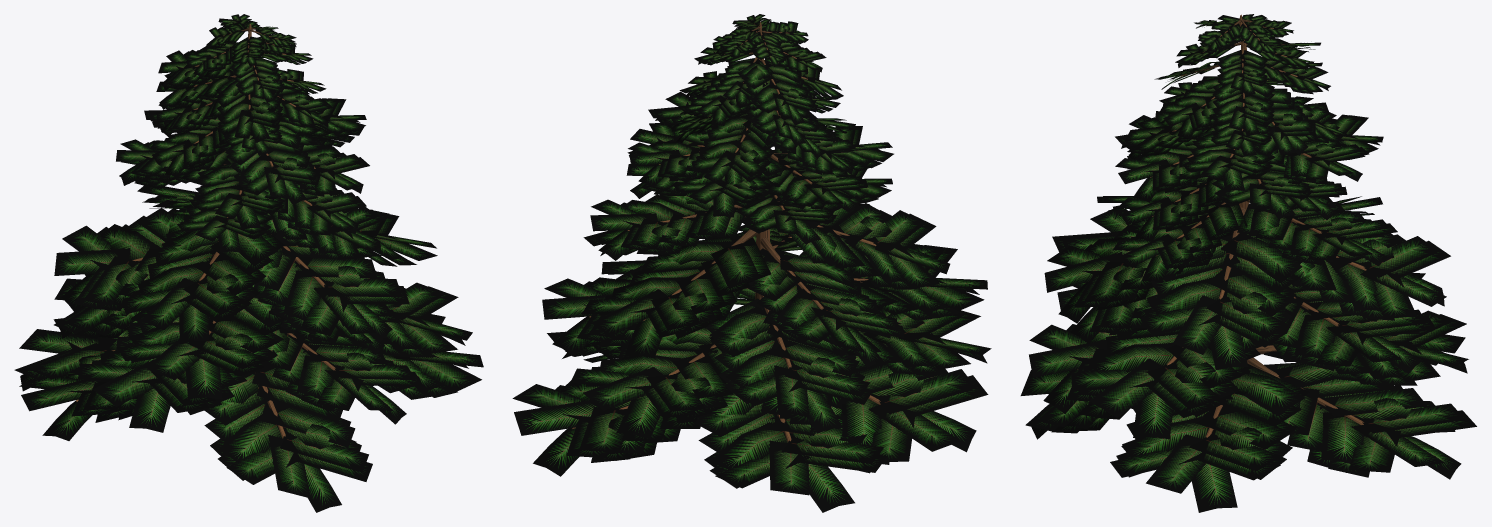
File: PineTree-2.fbx
3 renders of one model, left to right at view 1: azimuth 30°, elevation 25°; view 2: azimuth 150°, elevation 25°; view 3: azimuth 270°, elevation 25°, orthographic. The views are drawn at different scales.
Parts seen in each view (by area): view 1: Plane.1134, Plane.1137, Plane.1135, Plane.1140, Plane.1200, Plane.1360, Plane.1260, Plane.1199, Plane.1299, Plane.1100, Plane.1440, Plane.1414 (+62 smaller); view 2: Plane.1095, Plane.1160, Plane.1257, Plane.1260, Plane.1100, Plane.1180, Plane.1255, Plane.1155, Plane.1259, Plane.1097, Plane.1373, Plane.1380 (+71 smaller); view 3: Plane.1393, Plane.1320, Plane.1120, Plane.1113, Plane.1154, Plane.1157, Plane.1119, Plane.1114, Plane.1317, Plane.1220, Plane.1155, Plane.1400 (+74 smaller).
Part boxes in pixels (<box>): Plane.1134: <box>266,401,355,447</box>; Plane.1137: <box>218,413,282,461</box>; Plane.1135: <box>280,431,368,472</box>; Plane.1140: <box>268,434,310,498</box>; Plane.1200: <box>93,359,156,406</box>; Plane.1360: <box>54,248,130,275</box>; Plane.1260: <box>19,329,117,353</box>; Plane.1199: <box>129,388,170,432</box>; Plane.1299: <box>185,358,222,399</box>; Plane.1100: <box>21,379,109,411</box>; Plane.1440: <box>140,277,195,330</box>; Plane.1414: <box>298,257,377,278</box>; Plane.1095: <box>875,369,976,414</box>; Plane.1160: <box>514,400,614,435</box>; Plane.1257: <box>710,422,787,469</box>; Plane.1260: <box>769,440,809,495</box>; Plane.1100: <box>868,404,960,451</box>; Plane.1180: <box>583,367,663,410</box>; Plane.1255: <box>781,436,883,464</box>; Plane.1155: <box>579,407,626,452</box>; Plane.1259: <box>808,464,854,512</box>; Plane.1097: <box>841,399,881,445</box>; Plane.1373: <box>711,243,760,288</box>; Plane.1380: <box>591,289,667,337</box>; Plane.1393: <box>1220,233,1302,283</box>; Plane.1320: <box>1089,358,1162,417</box>; Plane.1120: <box>1146,434,1205,493</box>; Plane.1113: <box>1231,372,1305,416</box>; Plane.1154: <box>1321,388,1427,416</box>; Plane.1157: <box>1321,412,1363,463</box>; Plane.1119: <box>1191,463,1237,512</box>; Plane.1114: <box>1197,406,1292,449</box>; Plane.1317: <box>1091,343,1175,372</box>; Plane.1220: <box>1029,340,1106,377</box>; Plane.1155: <box>1358,403,1465,433</box>; Plane.1400: <box>1173,295,1221,354</box>.
Bounding box in the file's own units: 13113 × 12499 × 12113.
